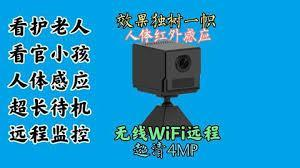tutu: (131, 41, 202, 96)
